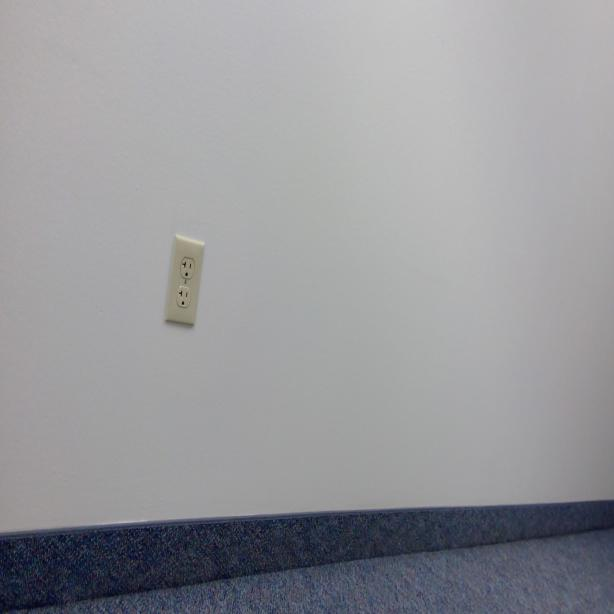typeb: (176, 284, 192, 308), (180, 257, 195, 279)
